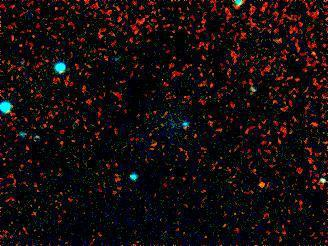star: (246, 170, 276, 200)
